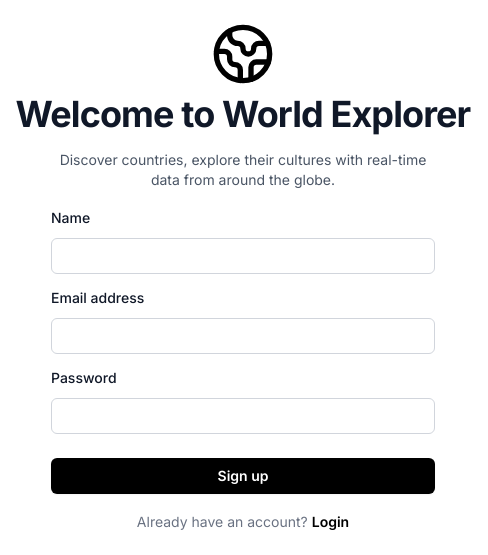
it: Signup Page › shows error for invalid email format
Type "Alice" into the field labelled "Name".
click(243, 256); type("Alice")  # box [51,238,435,274]
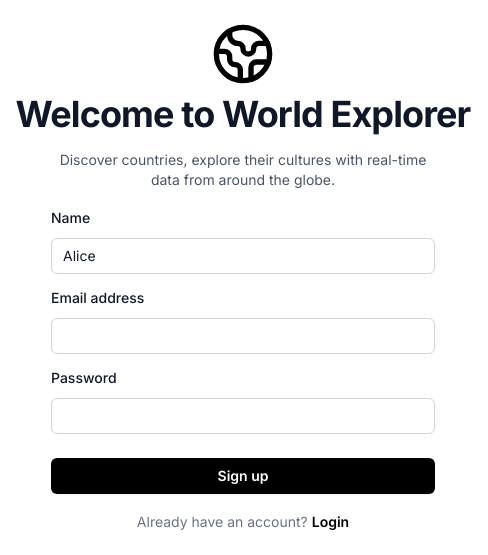
Type "bademail" into the field labelled "Email address".
click(243, 336); type("bademail")  # box [51,318,435,354]
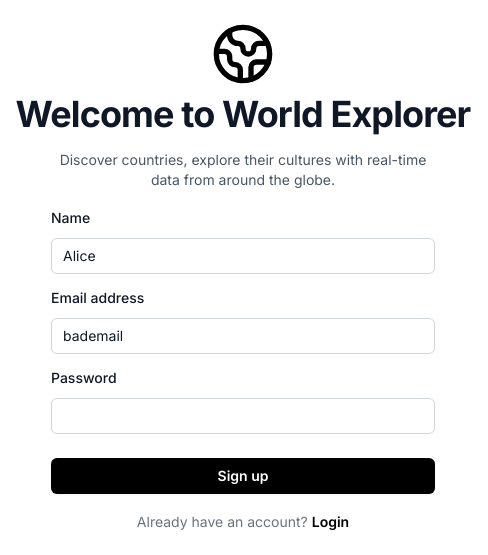
Type "strongpass" into the password field labelled "Password".
click(243, 416); type("strongpass")  # box [51,398,435,434]
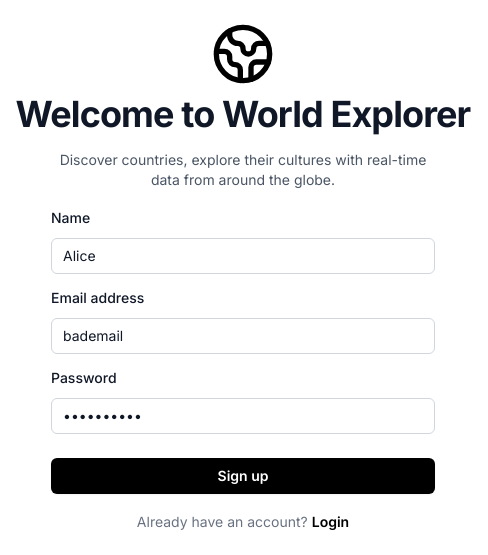
Click the button "Sign up".
click(243, 476)  # box [51,458,435,494]
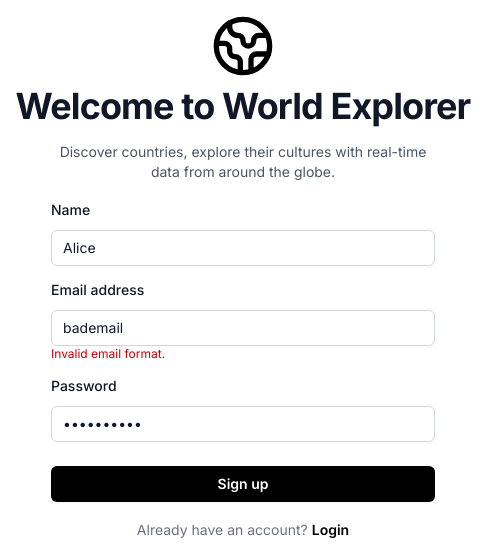
Check: the text "Invalid email format." is shown, box [51,346,165,361]
